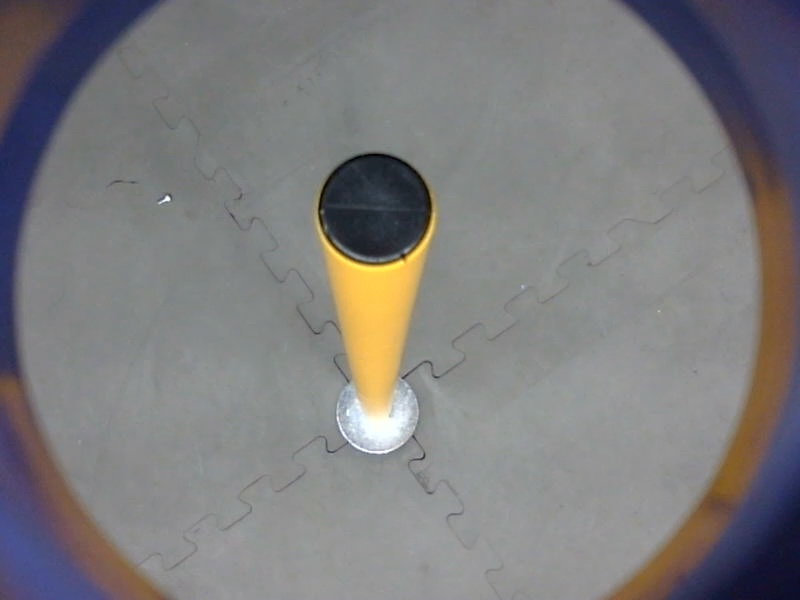tip: (307, 146, 443, 271)
